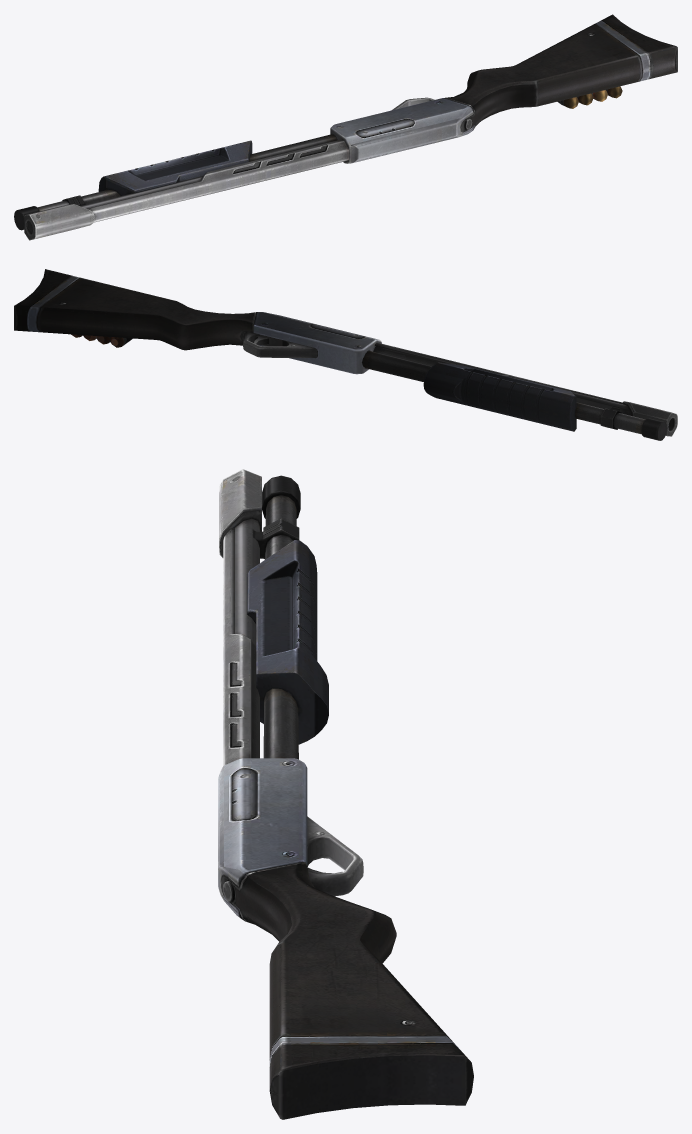
File: free_fire_gun_m590.glb
The picture shows the model from 3 angles, top to bottom: view 1: azimuth 30°, elevation 25°; view 2: azimuth 150°, elevation 25°; view 3: azimuth 270°, elevation 25°; orthographic projection. The views are drawn at different scales.
Visible parts, largest first — view 1: Mesh_0154.rip; view 2: Mesh_0154.rip; view 3: Mesh_0154.rip.
Boxes of the visible parts, box(x1,y1,x2,y2) form: Mesh_0154.rip: box(14, 14, 677, 240); Mesh_0154.rip: box(14, 269, 677, 440); Mesh_0154.rip: box(218, 469, 473, 1119).
Size of the model in its own units: 0.9414 by 0.0646 by 0.1692.
1 material, 1 textured.
